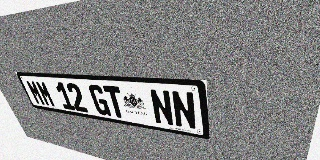1: (53, 82, 76, 110)
2: (65, 83, 88, 113)
G: (87, 84, 112, 116)
M: (35, 80, 56, 107), (25, 80, 46, 106)
N: (170, 90, 197, 130), (149, 89, 175, 127)
T: (102, 85, 127, 119)
